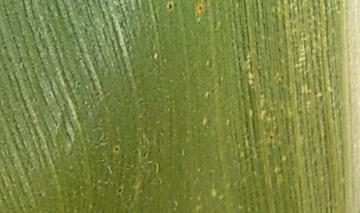tarspot: (167, 1, 173, 11), (112, 145, 119, 153), (117, 187, 123, 196), (268, 134, 275, 141), (196, 4, 202, 11)
